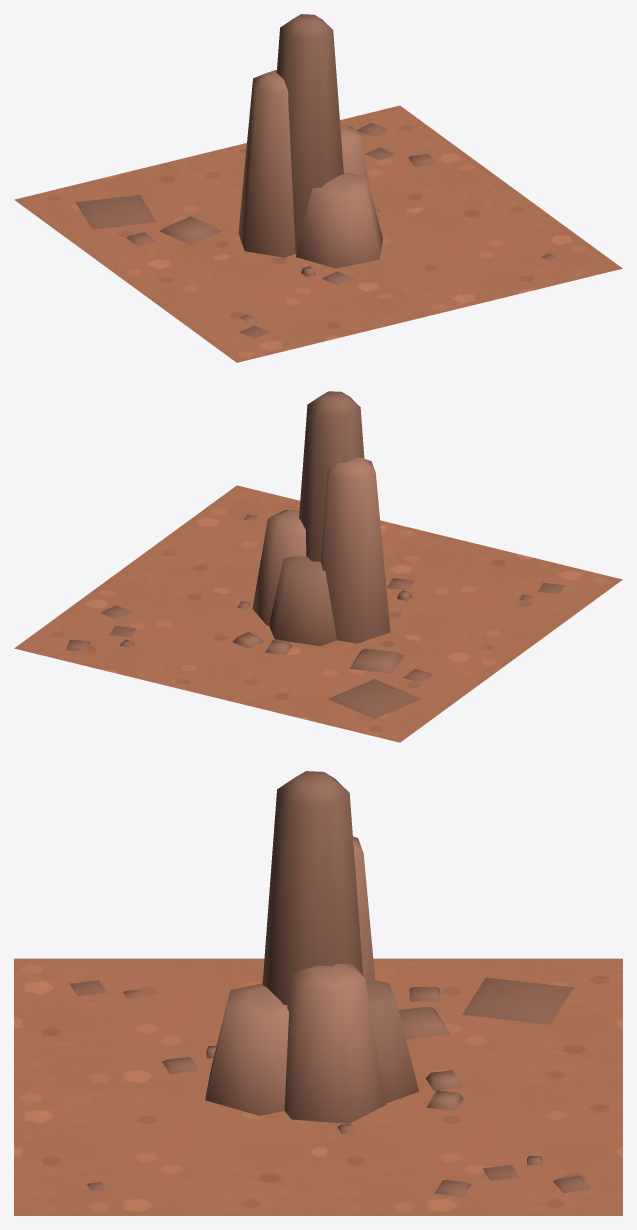
File: template-floor-big.glb
3 renders of one model, top to bottom at view 1: azimuth 30°, elevation 25°; view 2: azimuth 150°, elevation 25°; view 3: azimuth 270°, elevation 25°, orthographic. The views are drawn at different scales.
Parts seen in each view (by area): view 1: template-floor-big; view 2: template-floor-big; view 3: template-floor-big.
Part boxes in pixels (x1,y1,x2,y2): template-floor-big: (14,14,622,362); template-floor-big: (14,391,622,742); template-floor-big: (14,771,622,1215).
Bounding box in the file's own units: 8 × 4.35 × 8.
Materials: 1 (1 with a texture image).
